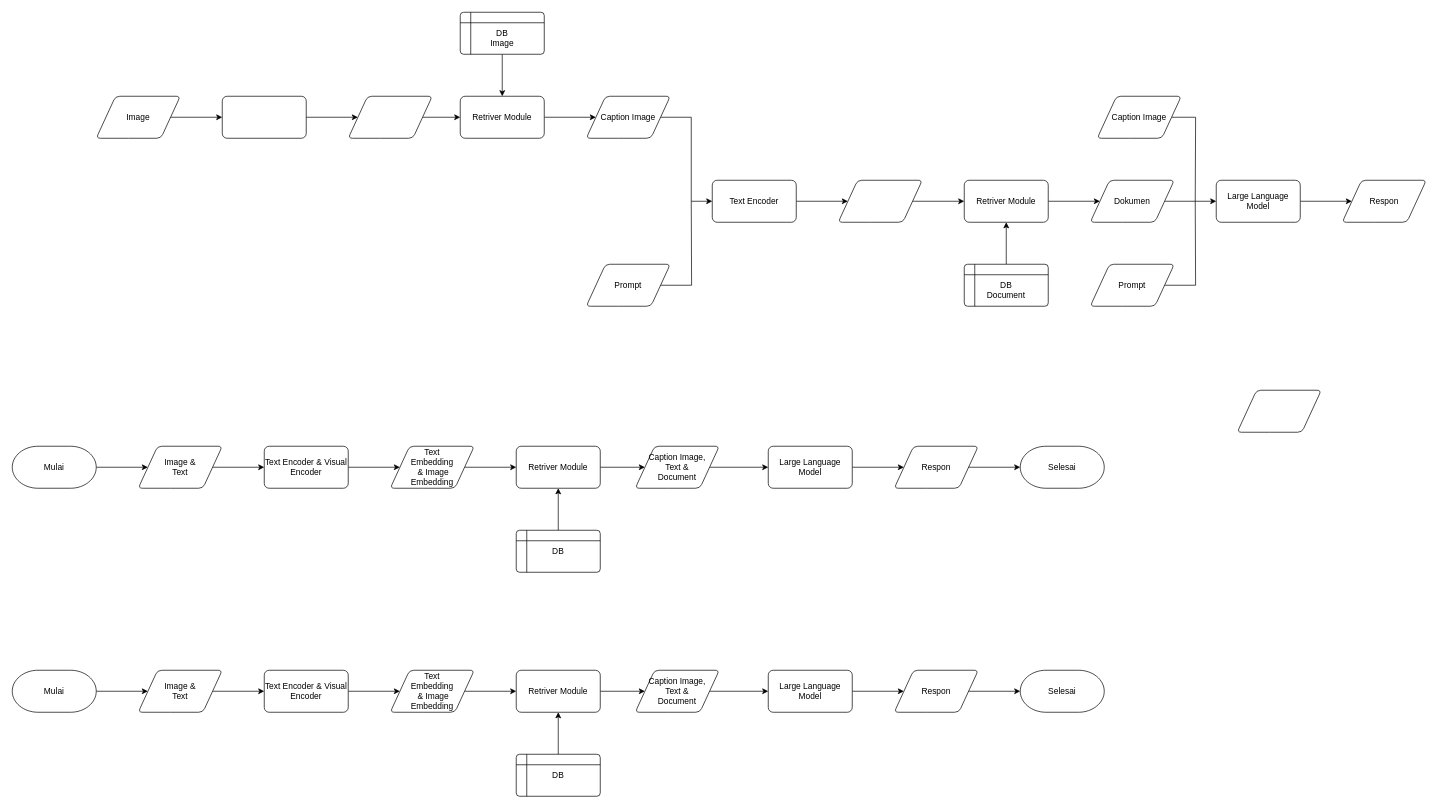
This 1439x809 diagram has some shape labels left out. Each missing label, with the centre of its shape:
"Image Embedding" goes at point (390, 117).
"Query Embedding" goes at point (880, 201).
"Text" goes at point (1279, 411).
"Visual Encoder" goes at point (264, 117).
